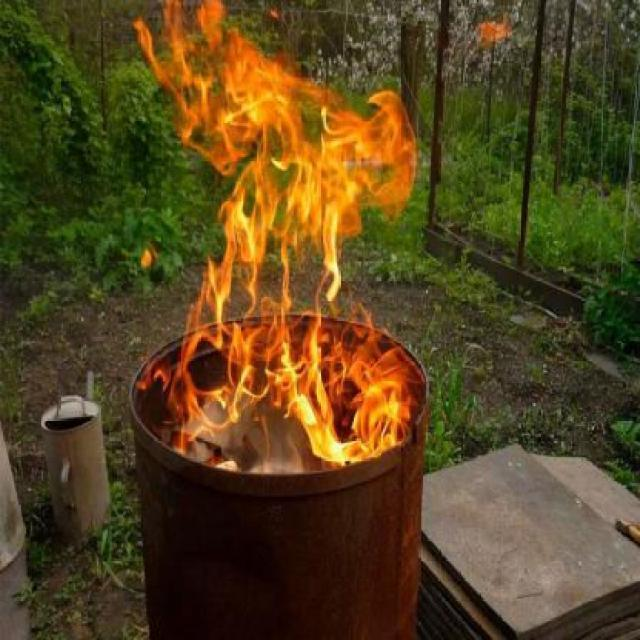Fire: (128, 0, 419, 455)
